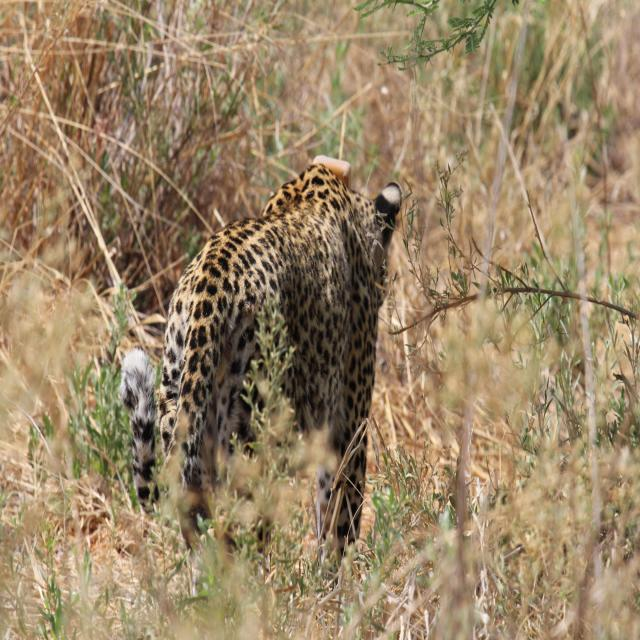Leopard: (125, 143, 403, 594)
